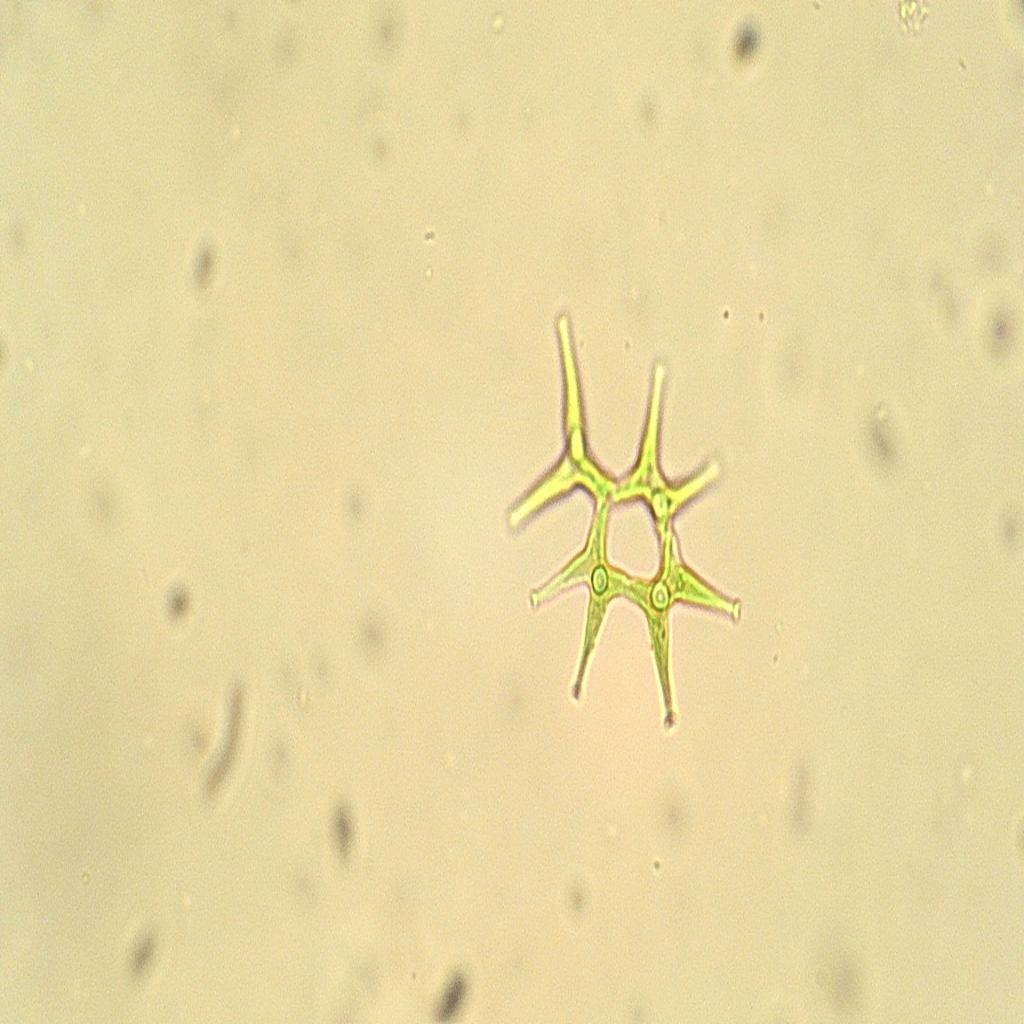Pediastrum_75FI: (482, 295, 767, 756)
